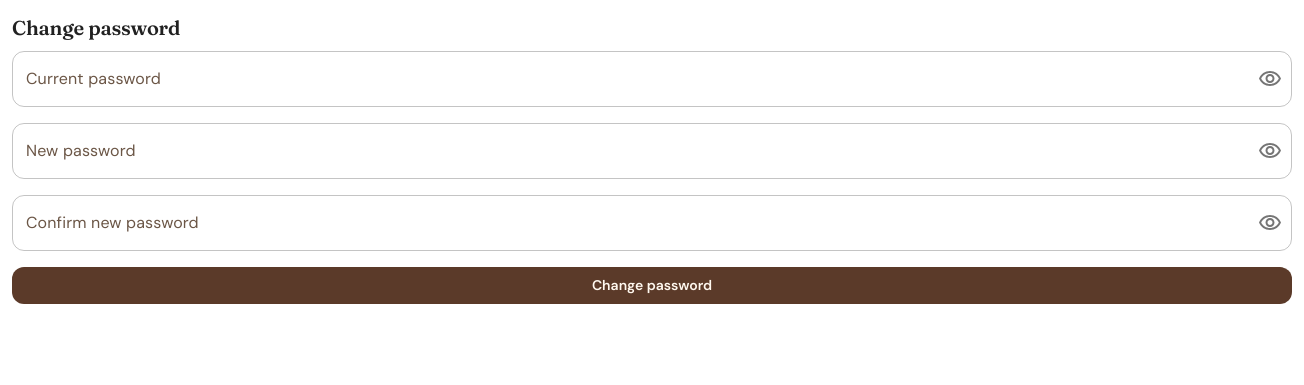
it: ChangePasswordForm › submits the current and new password, keeps the new session, and shows success
The width and height of the screenshot is (1304, 385).
Type "brew-test-pass-001" into the password field labelled "Current password". click: (627, 79)
box: [12,51,1242,107]
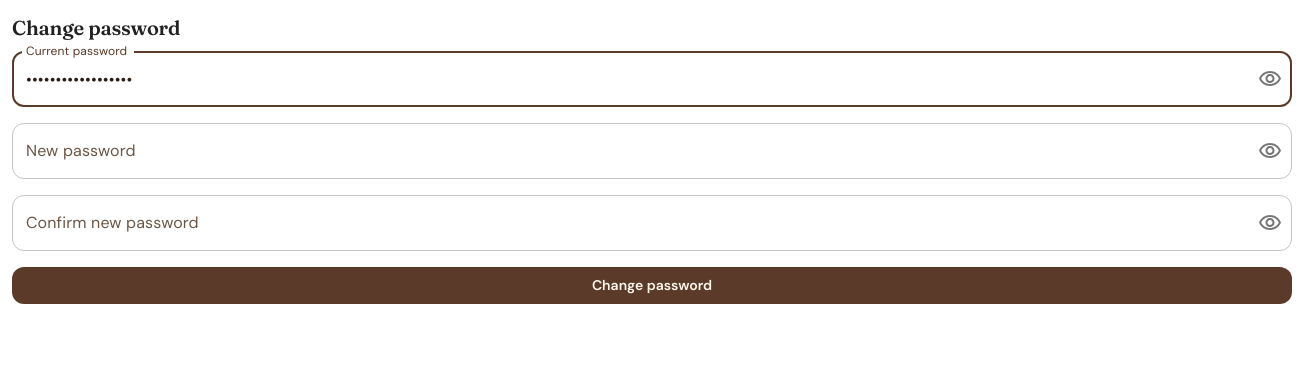
Type "brew-new-pass-0001" into the password field labelled "New password". click: (627, 151)
box: [12,123,1242,179]
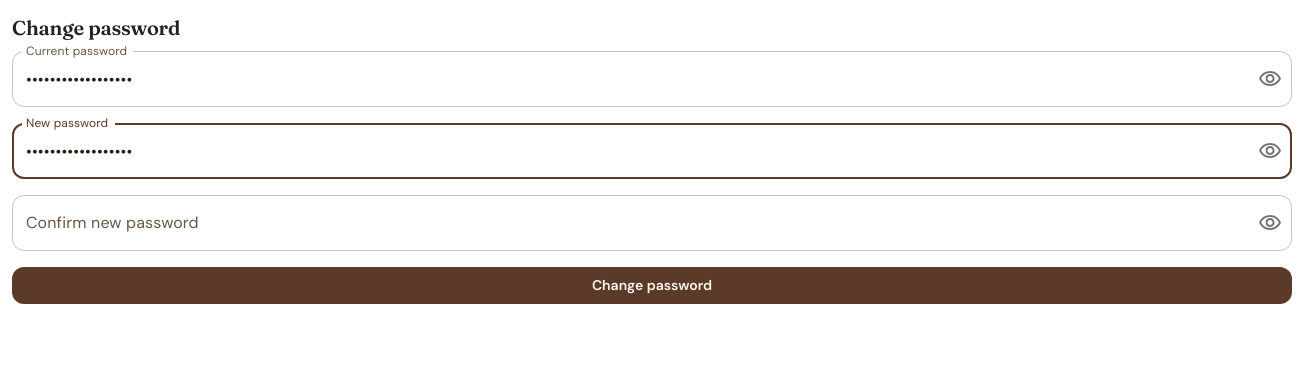
Type "brew-new-pass-0001" into the password field labelled "Confirm new password". click: (627, 223)
box: [12,195,1242,251]
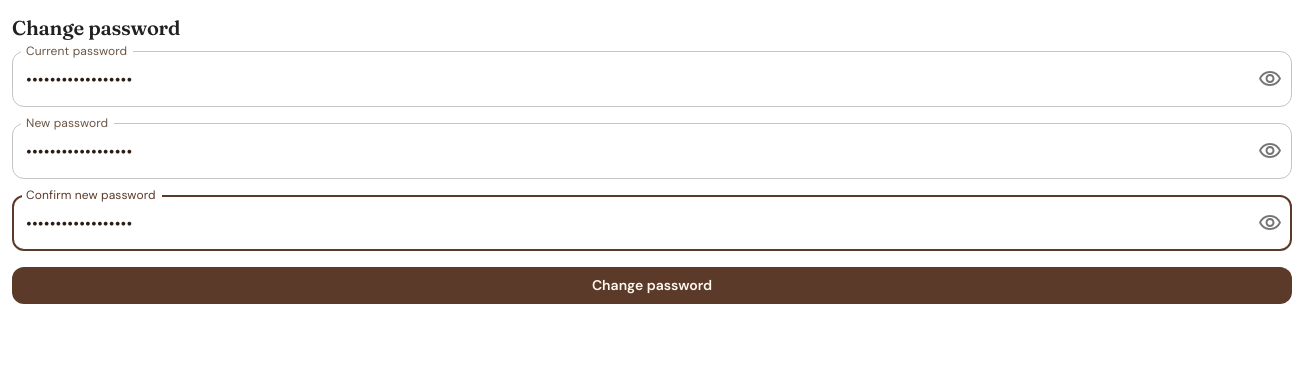
Click the button "Change password". click: (652, 285)
box: [12,267,1292,304]
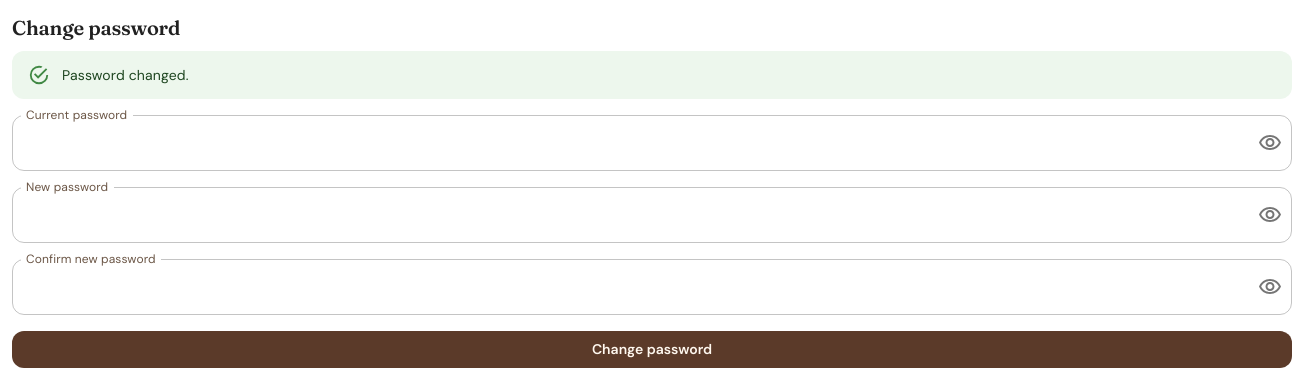
Expected: the text "Password changed." is shown, [62,66,189,84]
